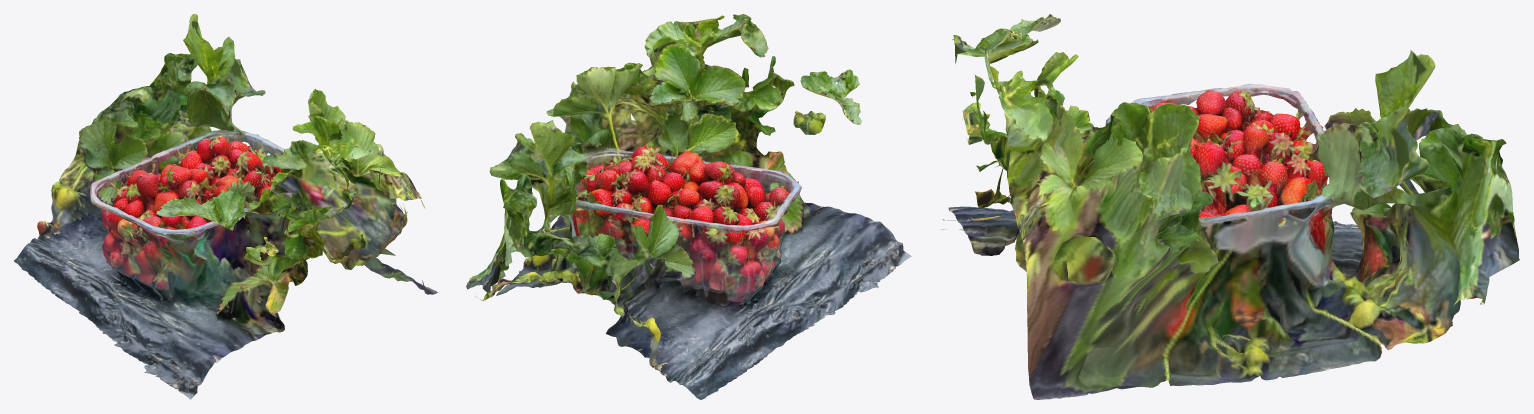
File: strawberry-farm.glb
3 renders of one model, left to right at view 1: azimuth 30°, elevation 25°; view 2: azimuth 150°, elevation 25°; view 3: azimuth 270°, elevation 25°, orthographic. The views are drawn at different scales.
Visible parts, largest first — view 1: Object_4; view 2: Object_4; view 3: Object_4.
Boxes of the visible parts, x1,y1,x2,y2 form: Object_4: (14,14,437,399); Object_4: (466,14,911,399); Object_4: (941,14,1519,399).
Size of the model in its own units: 0.434 by 0.3075 by 0.5448.
Materials: 1 (1 with a texture image).
